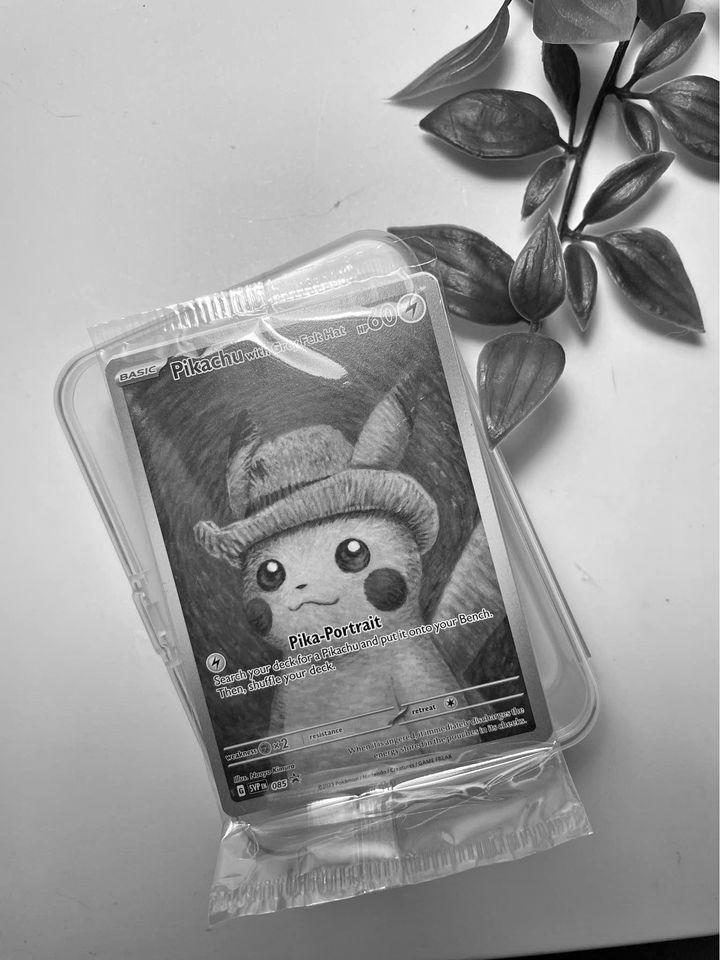card: (104, 273, 554, 817)
